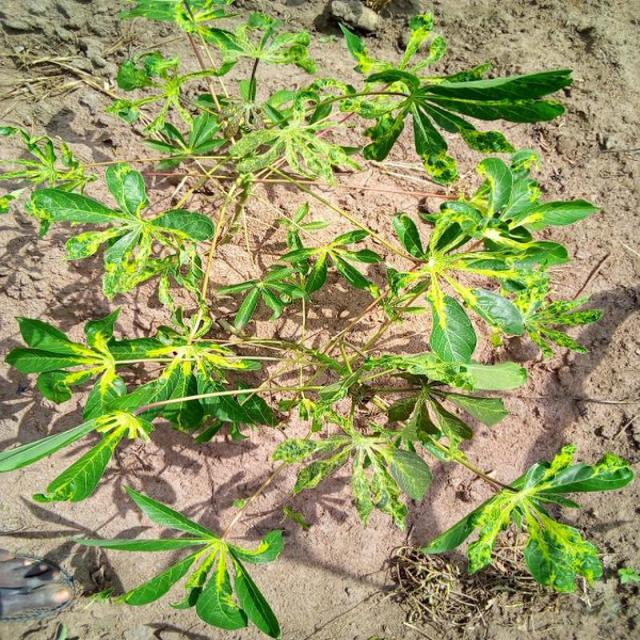cassava leaf: (73, 481, 285, 638), (418, 442, 634, 594), (428, 292, 477, 366)
